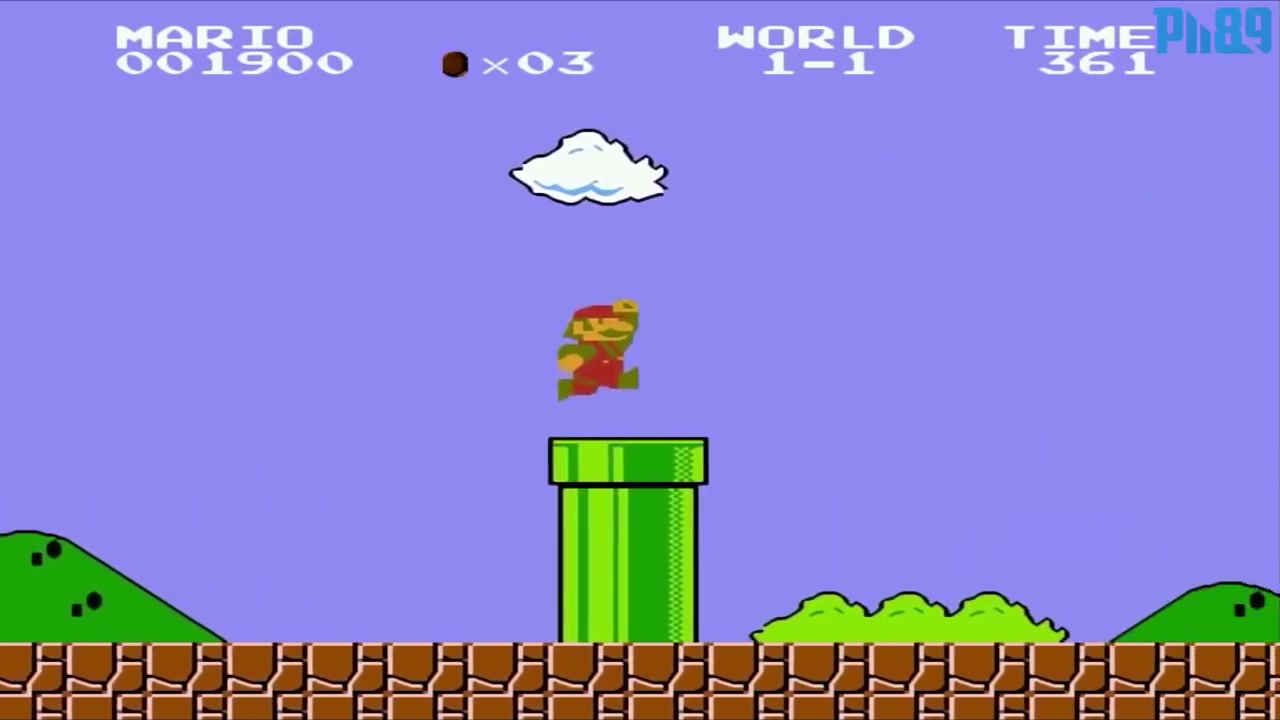mario: (547, 292, 646, 402)
